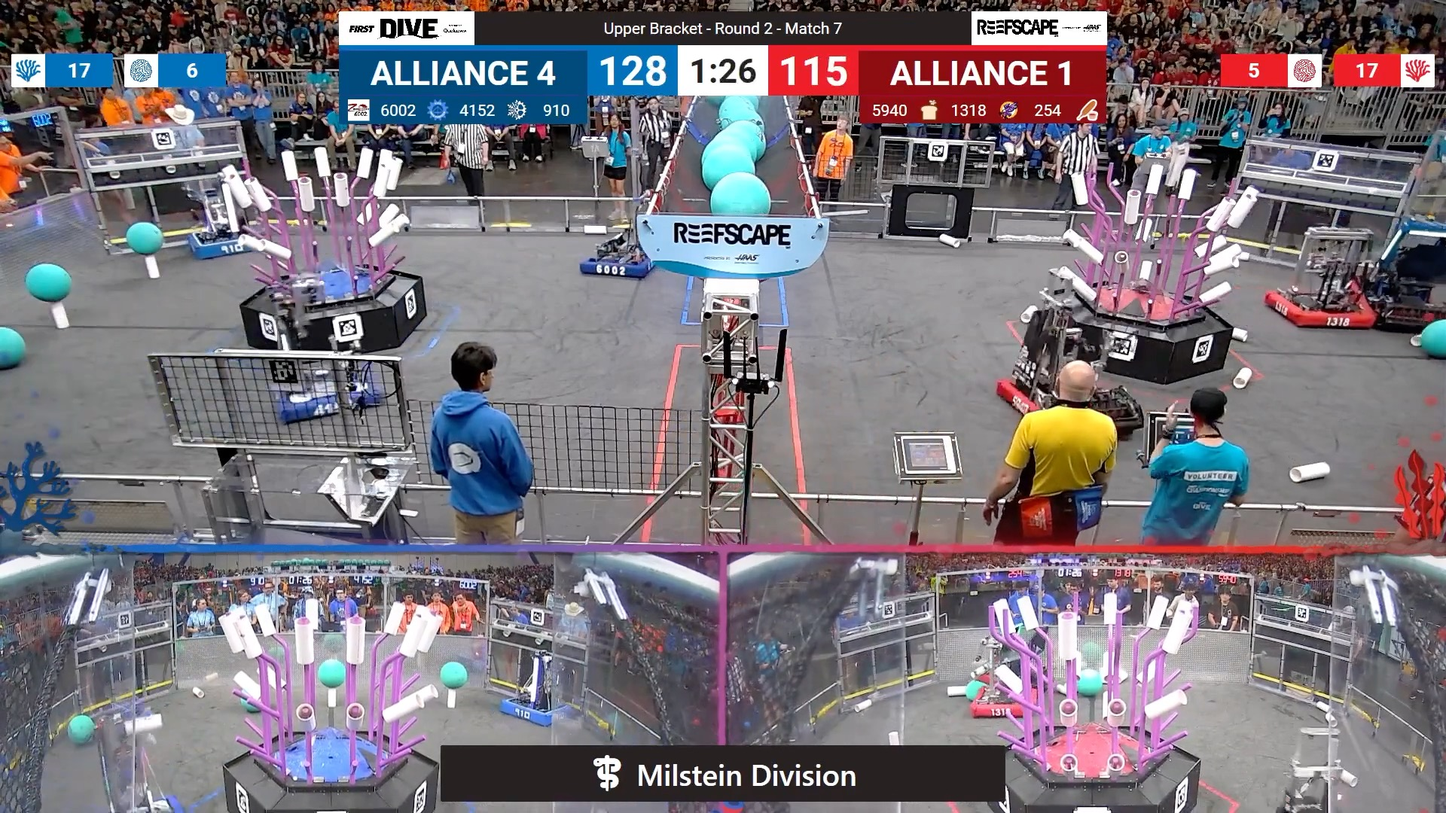bumpers: (993, 367, 1138, 431), (258, 357, 382, 428), (1257, 282, 1382, 338), (574, 245, 658, 281), (180, 228, 266, 263), (966, 686, 1039, 725), (495, 695, 573, 731), (85, 793, 194, 813)
